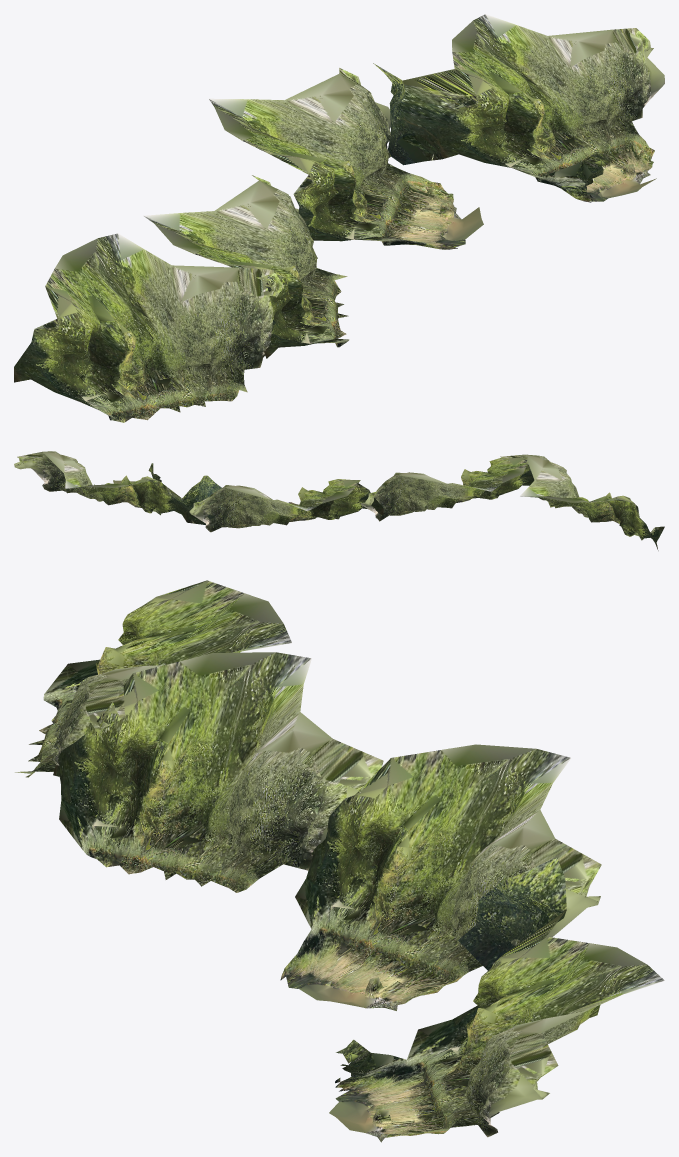
3 renders of one model, top to bottom at view 1: azimuth 30°, elevation 25°; view 2: azimuth 150°, elevation 25°; view 3: azimuth 270°, elevation 25°, orthographic. The views are drawn at different scales.
Parts seen in each view (by area): view 1: medium.033, medium.037, medium.035, medium.036; view 2: medium.035, medium.033, medium.036, medium.037; view 3: medium.036, medium.035, medium.033, medium.037.
Boxes of the visible parts, bbox=[...] form: medium.033: bbox=[373, 14, 664, 202]; medium.037: bbox=[14, 233, 283, 422]; medium.035: bbox=[209, 68, 483, 249]; medium.036: bbox=[143, 175, 349, 358]; medium.035: bbox=[189, 479, 383, 532]; medium.033: bbox=[14, 451, 221, 524]; medium.036: bbox=[360, 457, 534, 521]; medium.037: bbox=[500, 454, 664, 550]; medium.036: bbox=[53, 652, 383, 892]; medium.035: bbox=[280, 744, 601, 1010]; medium.033: bbox=[329, 857, 664, 1142]; medium.037: bbox=[15, 580, 291, 780].
Bounding box in the file's own units: 148 × 21.65 × 81.29.
Materials: 4 (4 with a texture image).
